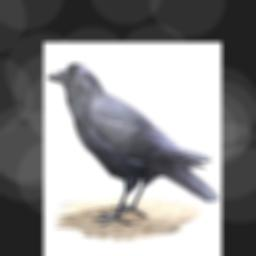Crow: (46, 62, 219, 229)
